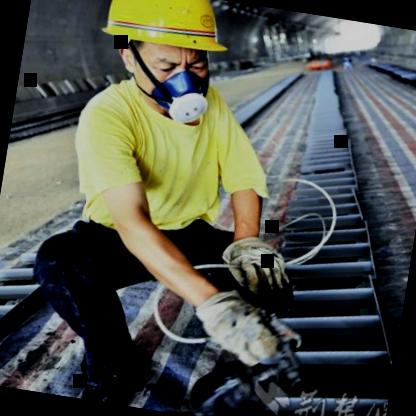helmet: (81, 0, 241, 110)
